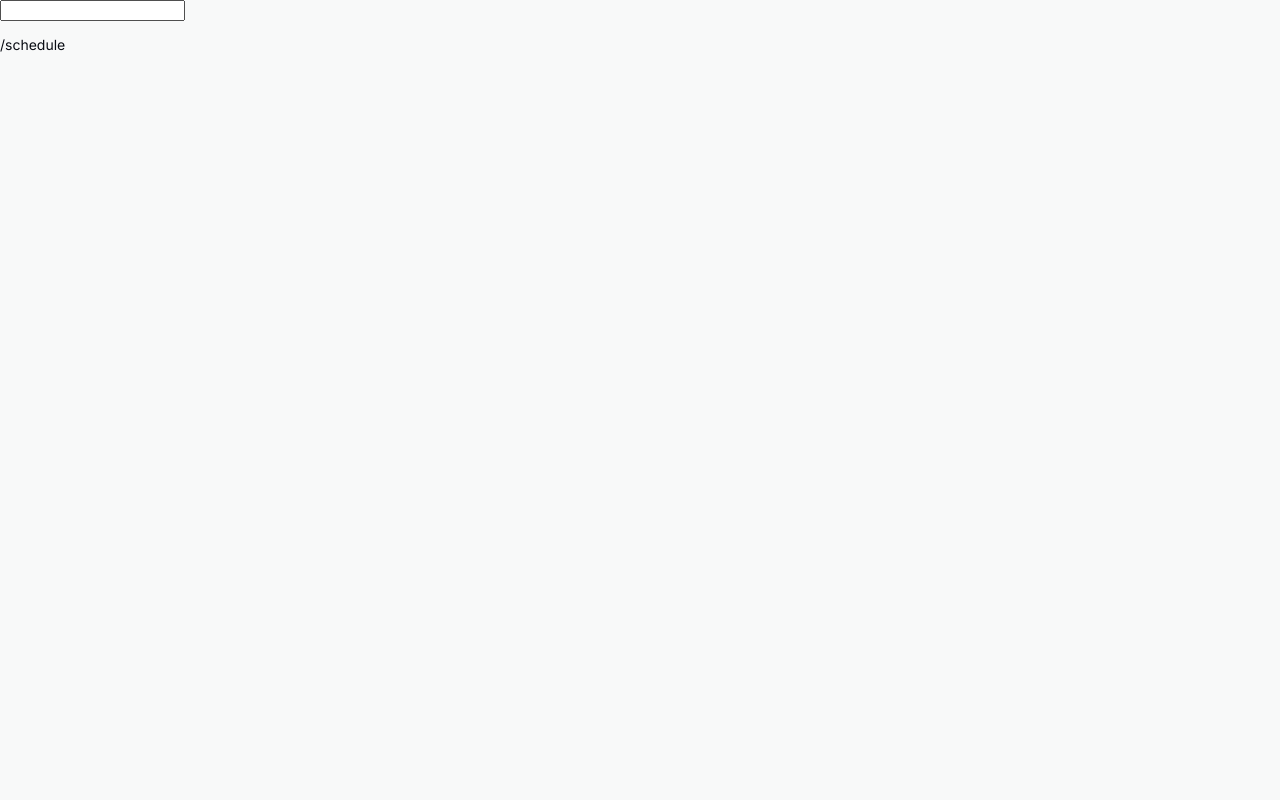
it: NewRequestDoor (ADR-0082) › offers exactly two choices and routes each to its own flow
The image size is (1280, 800).
Press p
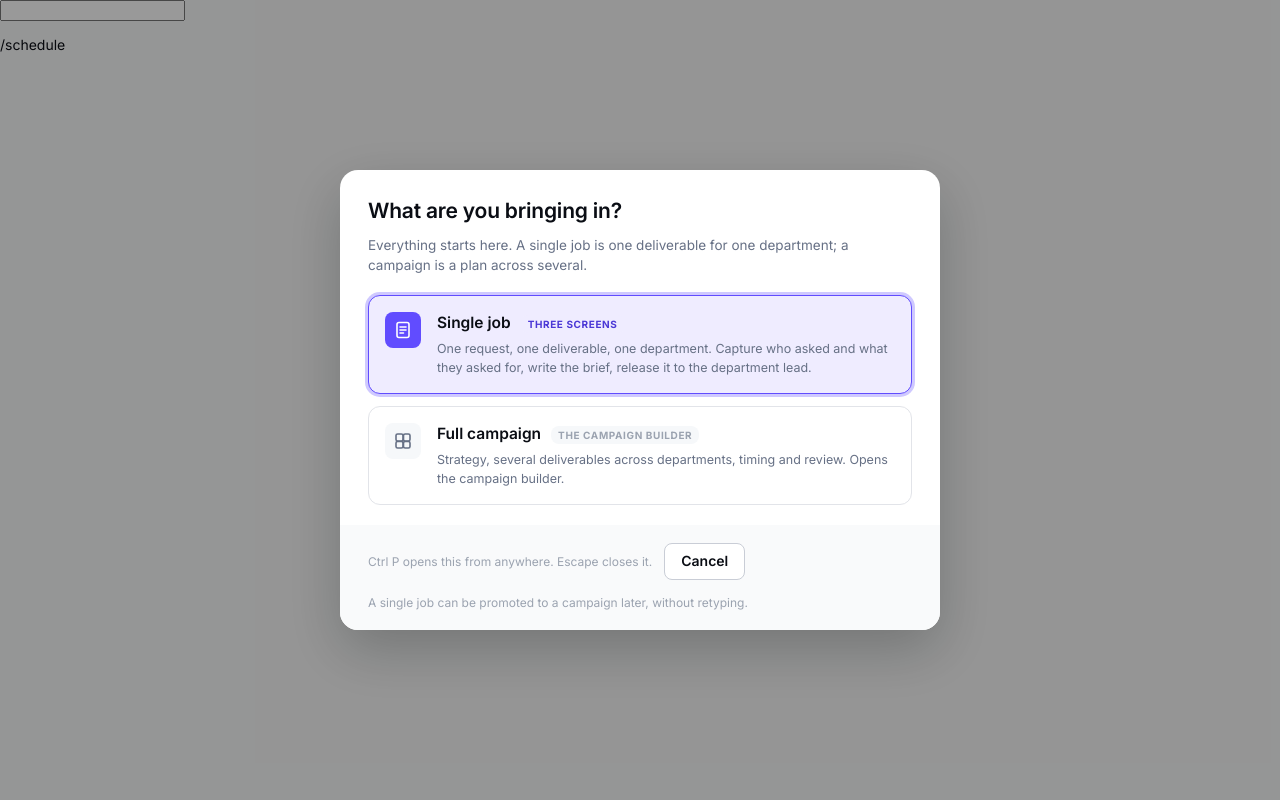
Check: the button with test id "new-request-single-job" is shown, box [368,295,912,394]
Check: the button with test id "new-request-full-campaign" is shown
Check: the number of buttons with class "choice-card" is 2
Click the button with test id "new-request-full-campaign".
click(640, 456)  # box [368,406,912,505]
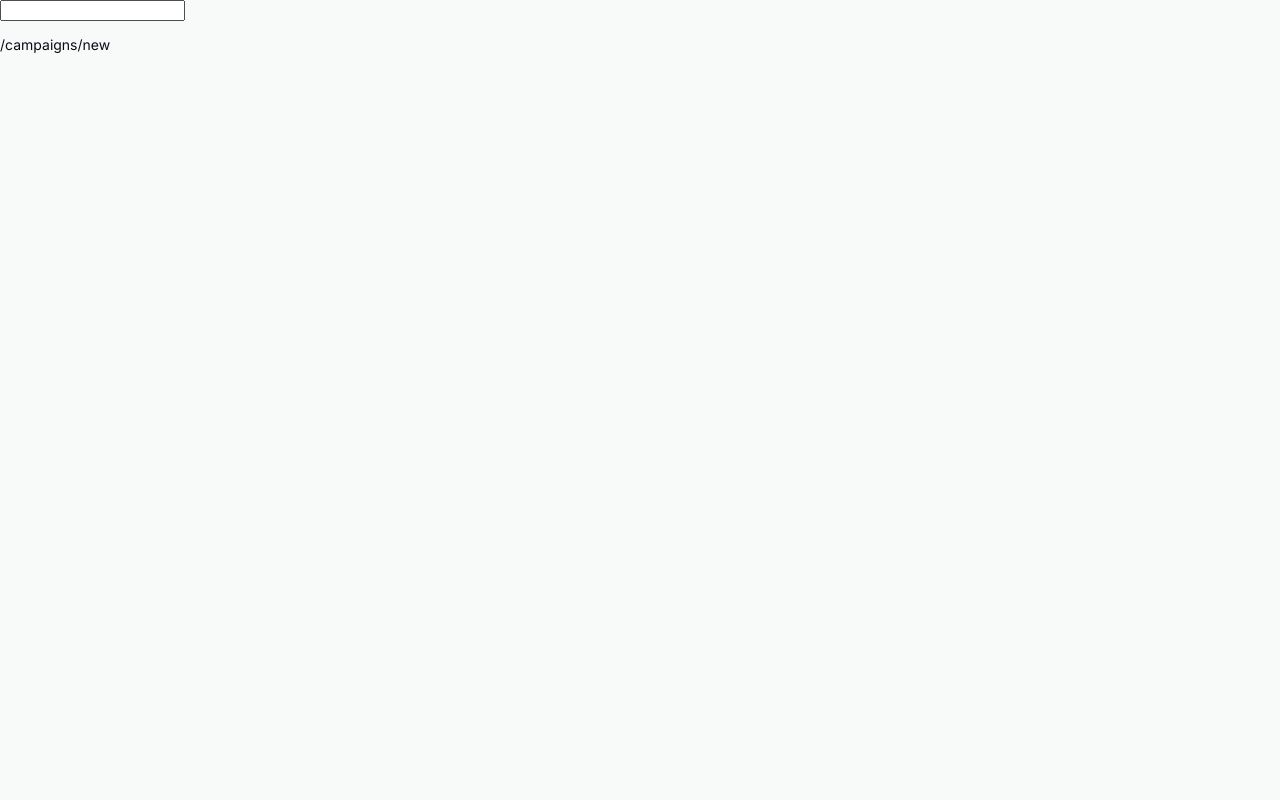
Check: the text with test id "where" reads "/campaigns/new", box [0,36,110,53]
Check: the dialog with test id "new-request-door" is gone
Press p
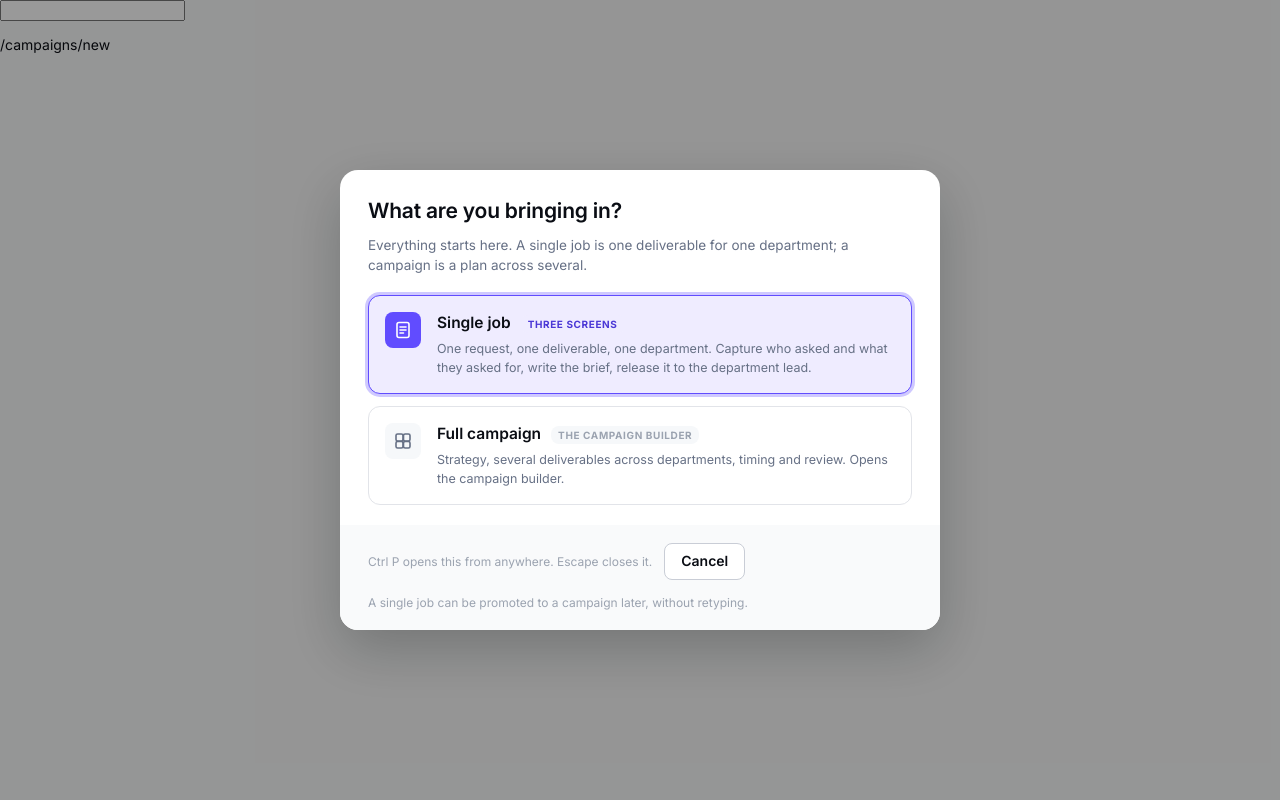
Click the button with test id "new-request-single-job".
click(640, 345)  # box [368,295,912,394]
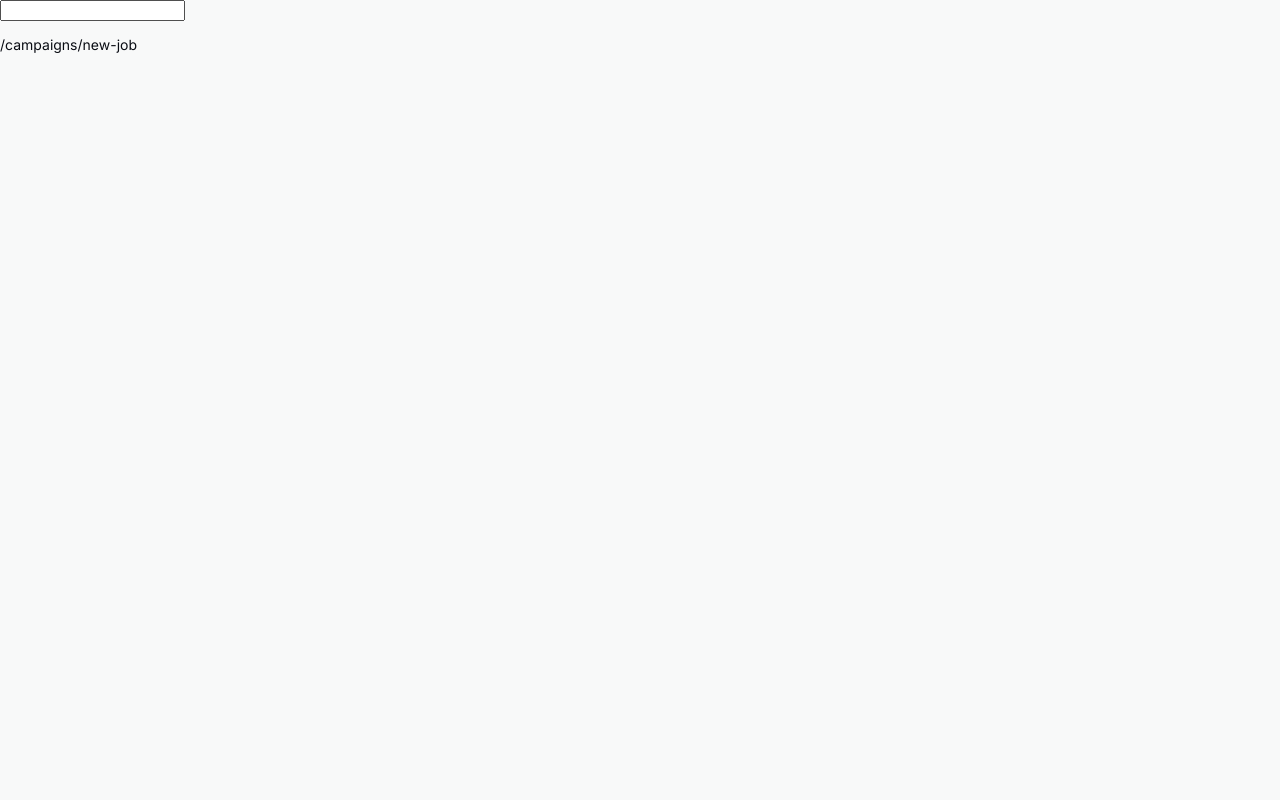
Check: the text with test id "where" reads "/campaigns/new-job", box [0,36,137,53]
